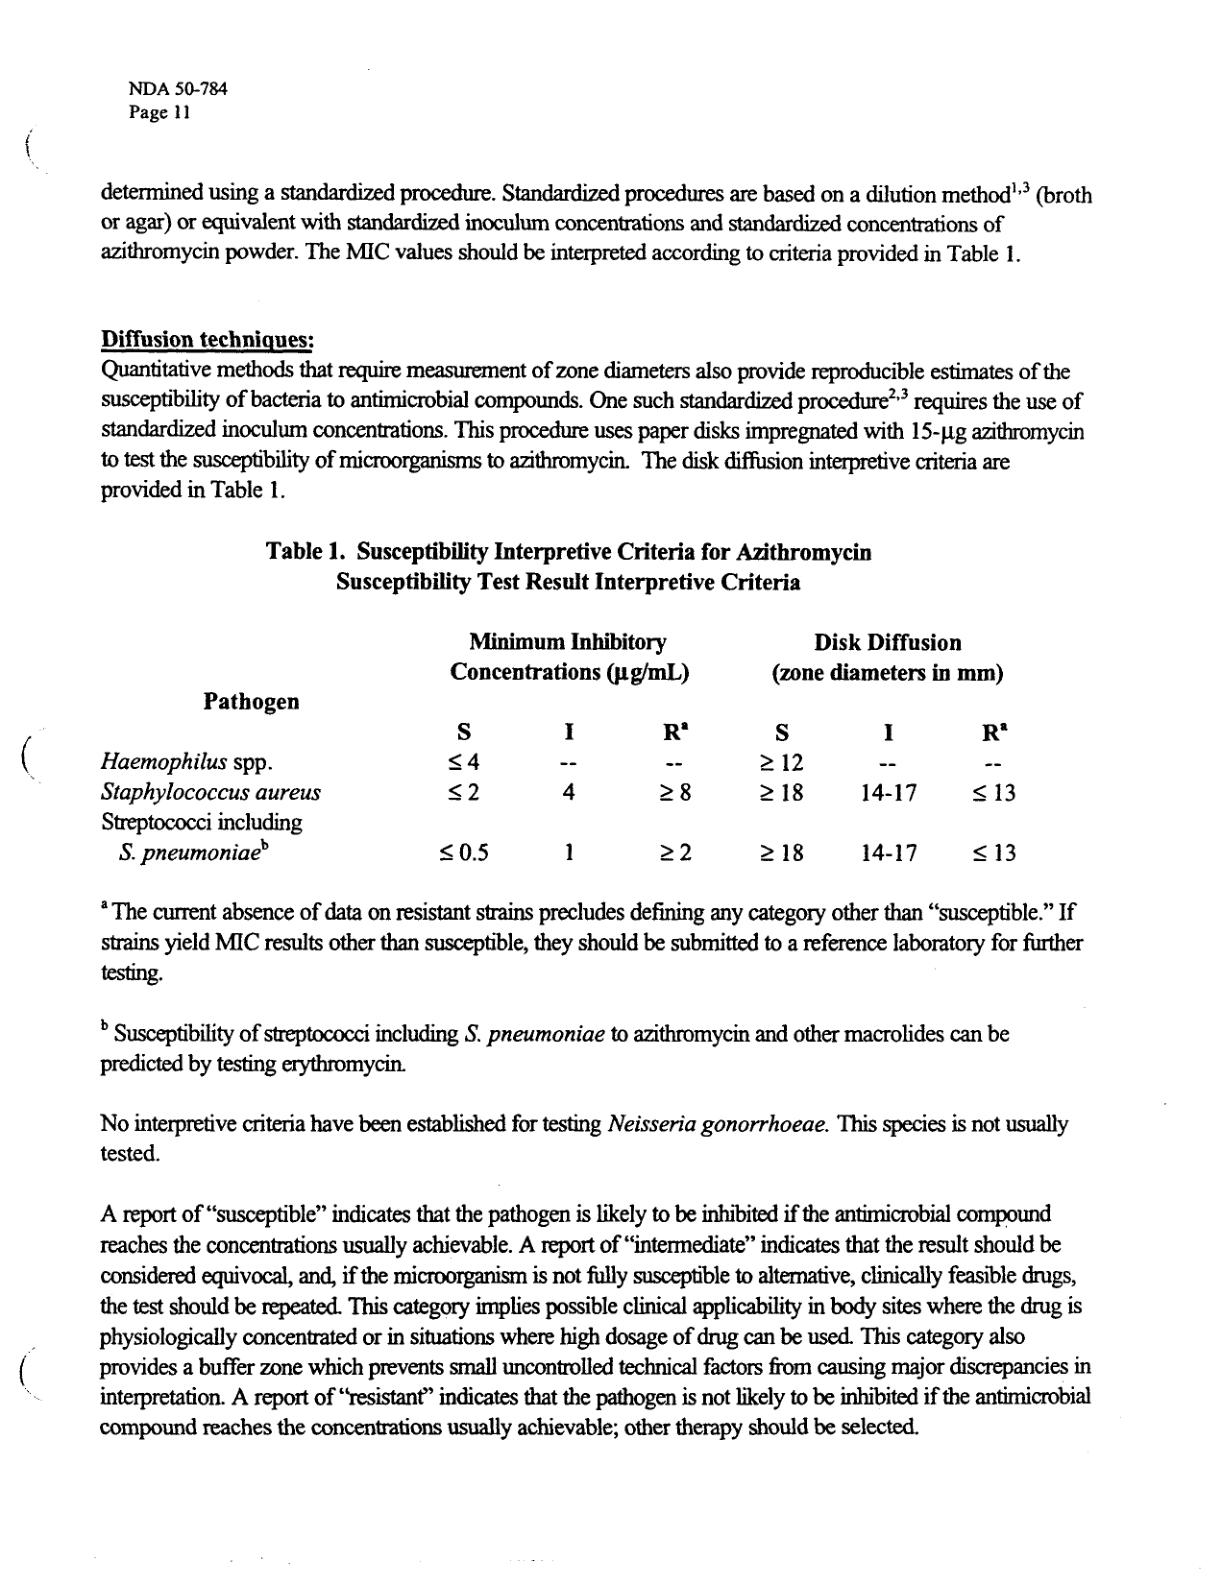nolines: (99, 626, 1020, 863)
